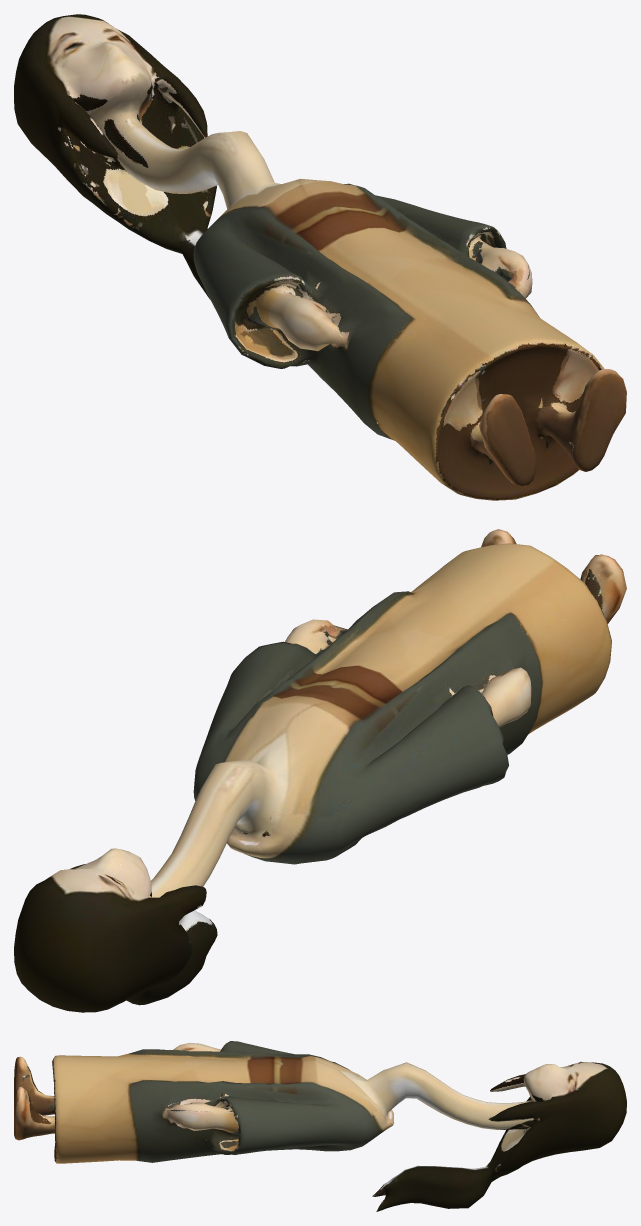
Rendered from Rokurokubi.glb.
The picture shows the model from 3 angles, top to bottom: view 1: azimuth 30°, elevation 25°; view 2: azimuth 150°, elevation 25°; view 3: azimuth 270°, elevation 25°; orthographic projection. The views are drawn at different scales.
Visible parts, largest first — view 1: Retopo_rokurokubi.001; view 2: Retopo_rokurokubi.001; view 3: Retopo_rokurokubi.001.
Part boxes in pixels (x1,y1,x2,y2): Retopo_rokurokubi.001: [14, 14, 626, 500]; Retopo_rokurokubi.001: [14, 529, 626, 1012]; Retopo_rokurokubi.001: [14, 1041, 626, 1211].
Size of the model in its own units: 0.6166 by 0.475 by 1.96.
Materials: 1 (1 with a texture image).
